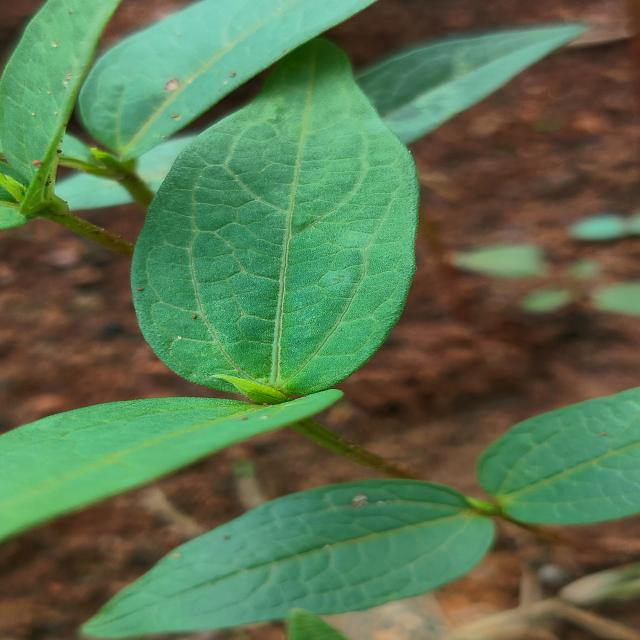Black gram_healthy: (134, 23, 418, 403), (66, 476, 483, 640)
